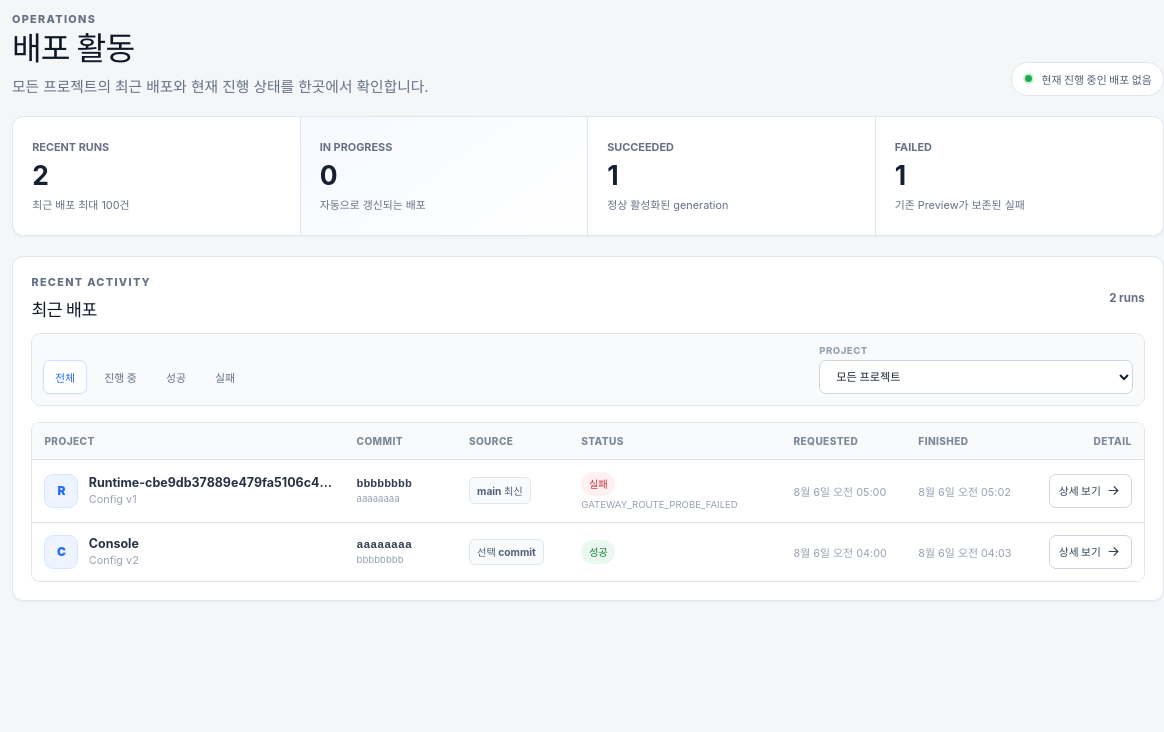
it: DeploymentActivityPage › filters the recent activity by status and project
Click the button "성공" at coordinates (176, 377), box [154, 360, 198, 394]
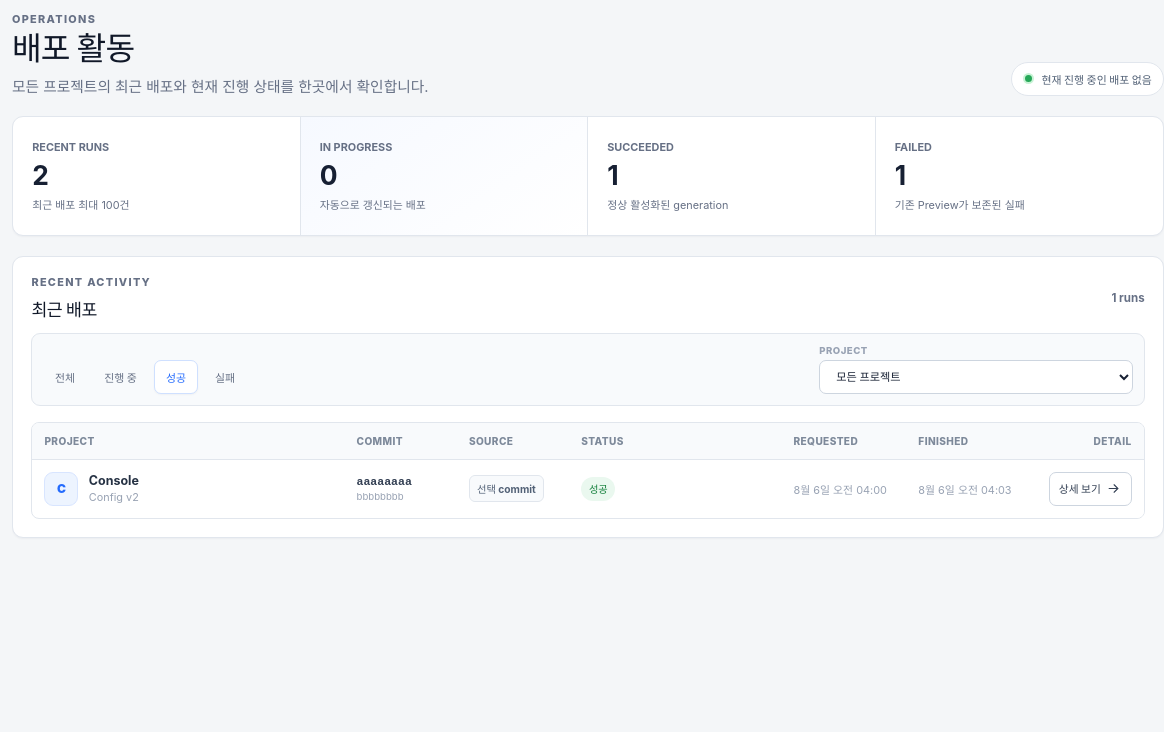
Expected: the text "Console" is shown, [89, 473, 139, 488]
Now the link "Runtime-cbe9db37889e479fa5106c431785e740" is gone
Click the button "전체" at coordinates (65, 377), box [43, 360, 87, 394]
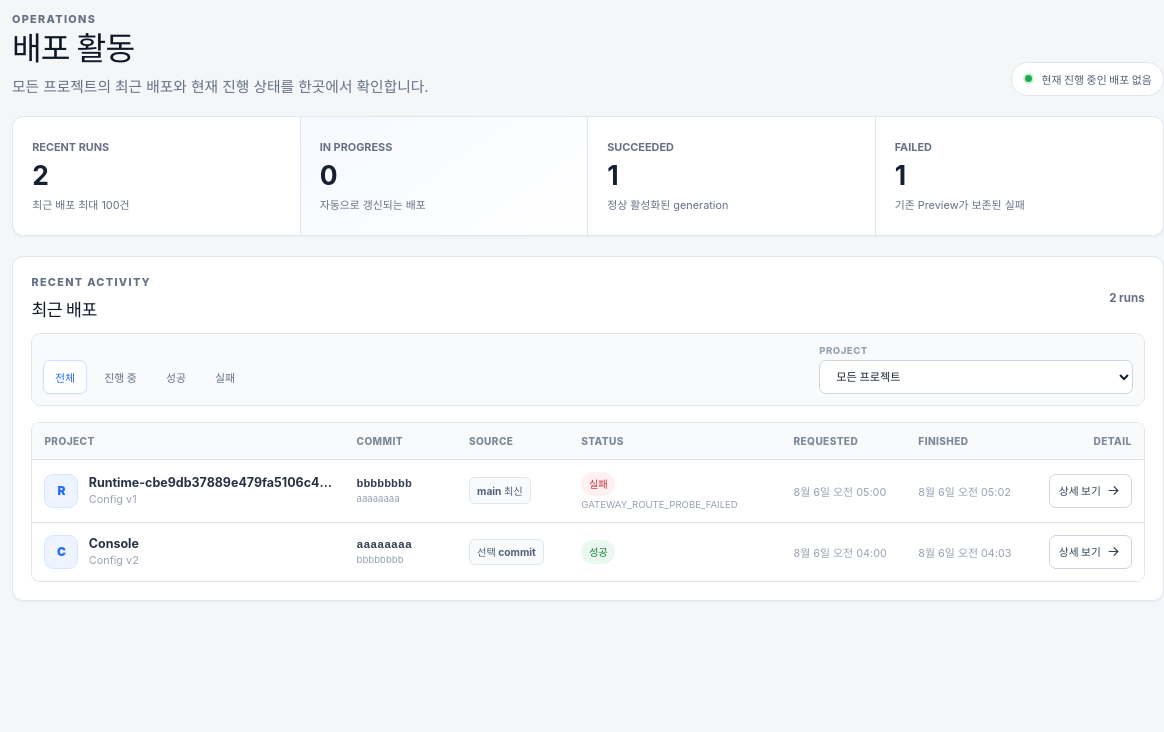
Select "Runtime-cbe9db37889e479fa5106c431785e740" in the dropdown named "프로젝트 필터" at coordinates (976, 377), box [819, 360, 1133, 394]
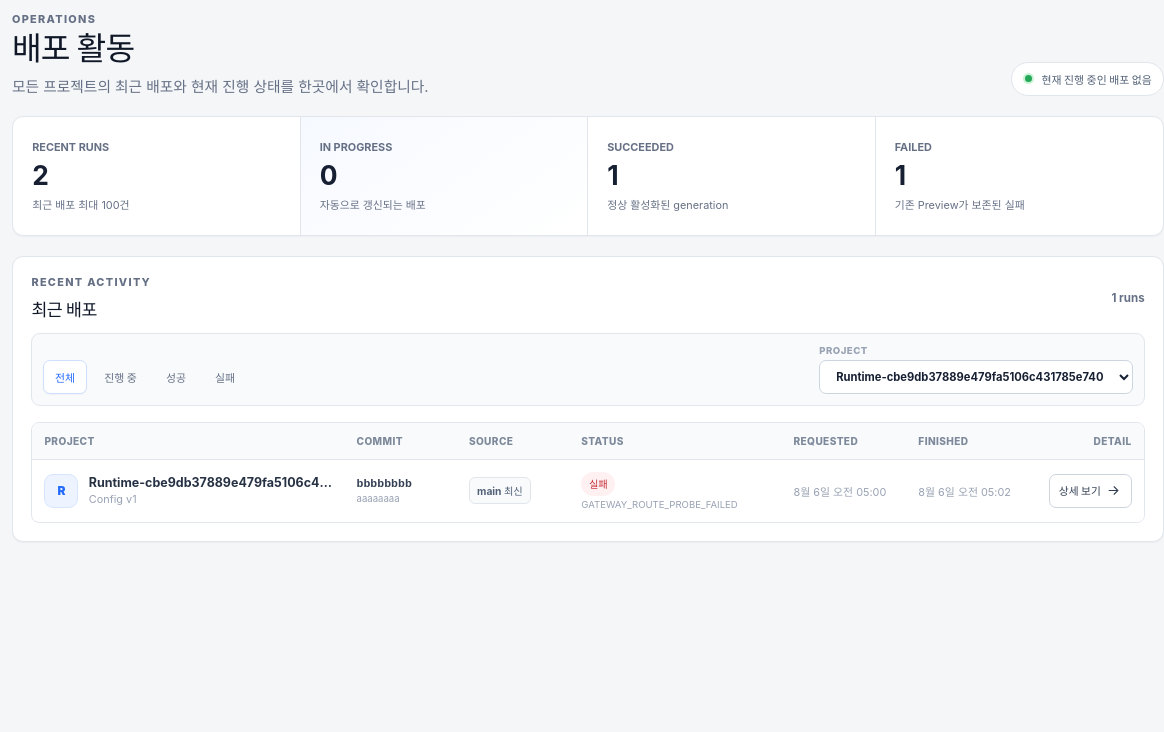
Now the text "Runtime-cbe9db37889e479fa5106c431785e740" is shown, box [89, 475, 332, 490]
Now the link "Console" is gone
